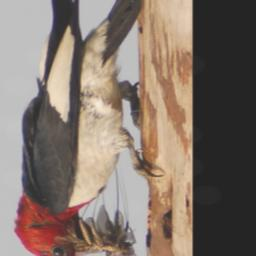Woodpecker: (15, 0, 163, 256)
